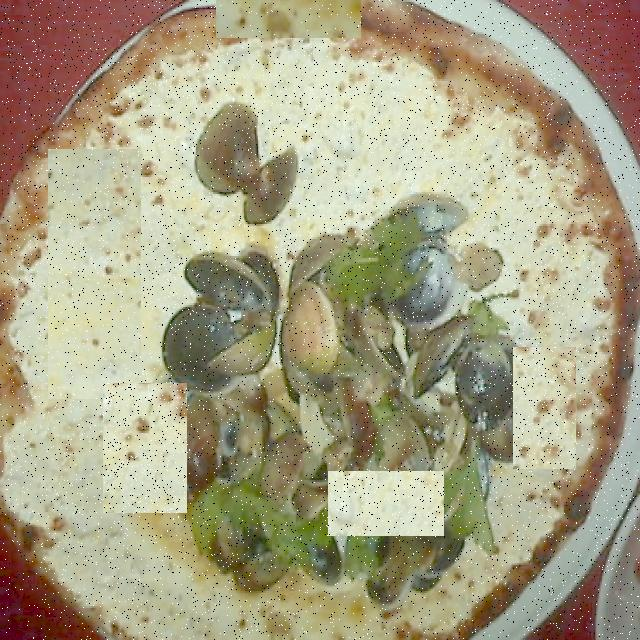Cheese: (48, 149, 141, 399), (103, 383, 187, 513), (513, 347, 576, 469), (328, 471, 444, 536), (85, 42, 167, 117), (216, 0, 361, 38)
Pizza: (0, 0, 640, 640)
